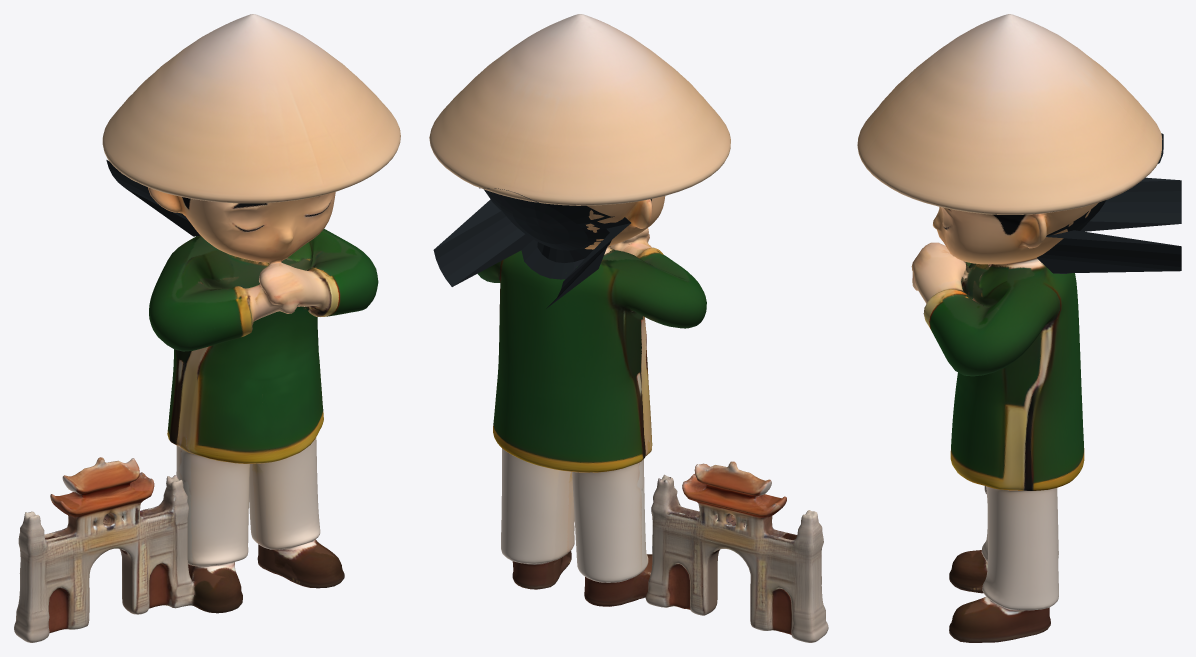
Rendered from nibi-co-do-hoa-lu-v13.glb.
3 views of the same model, side by side, from view 1: azimuth 30°, elevation 25°; view 2: azimuth 150°, elevation 25°; view 3: azimuth 270°, elevation 25° (orthographic). The views are drawn at different scales.
Parts seen in each view (by area): view 1: Nibi_CoDoHoaLu_v13, Nibi_CoDoHoaLu_v13_BackHair; view 2: Nibi_CoDoHoaLu_v13, Nibi_CoDoHoaLu_v13_BackHair; view 3: Nibi_CoDoHoaLu_v13, Nibi_CoDoHoaLu_v13_BackHair.
Boxes of the visible parts, bbox=[...] form: Nibi_CoDoHoaLu_v13: bbox=[14, 14, 400, 642]; Nibi_CoDoHoaLu_v13_BackHair: bbox=[106, 160, 199, 236]; Nibi_CoDoHoaLu_v13: bbox=[429, 14, 828, 642]; Nibi_CoDoHoaLu_v13_BackHair: bbox=[433, 187, 630, 308]; Nibi_CoDoHoaLu_v13: bbox=[857, 14, 1162, 642]; Nibi_CoDoHoaLu_v13_BackHair: bbox=[1037, 133, 1181, 273].
Bounding box in the file's own units: 1.29 × 1.91 × 0.9436.
Materials: 2 (1 with a texture image).
